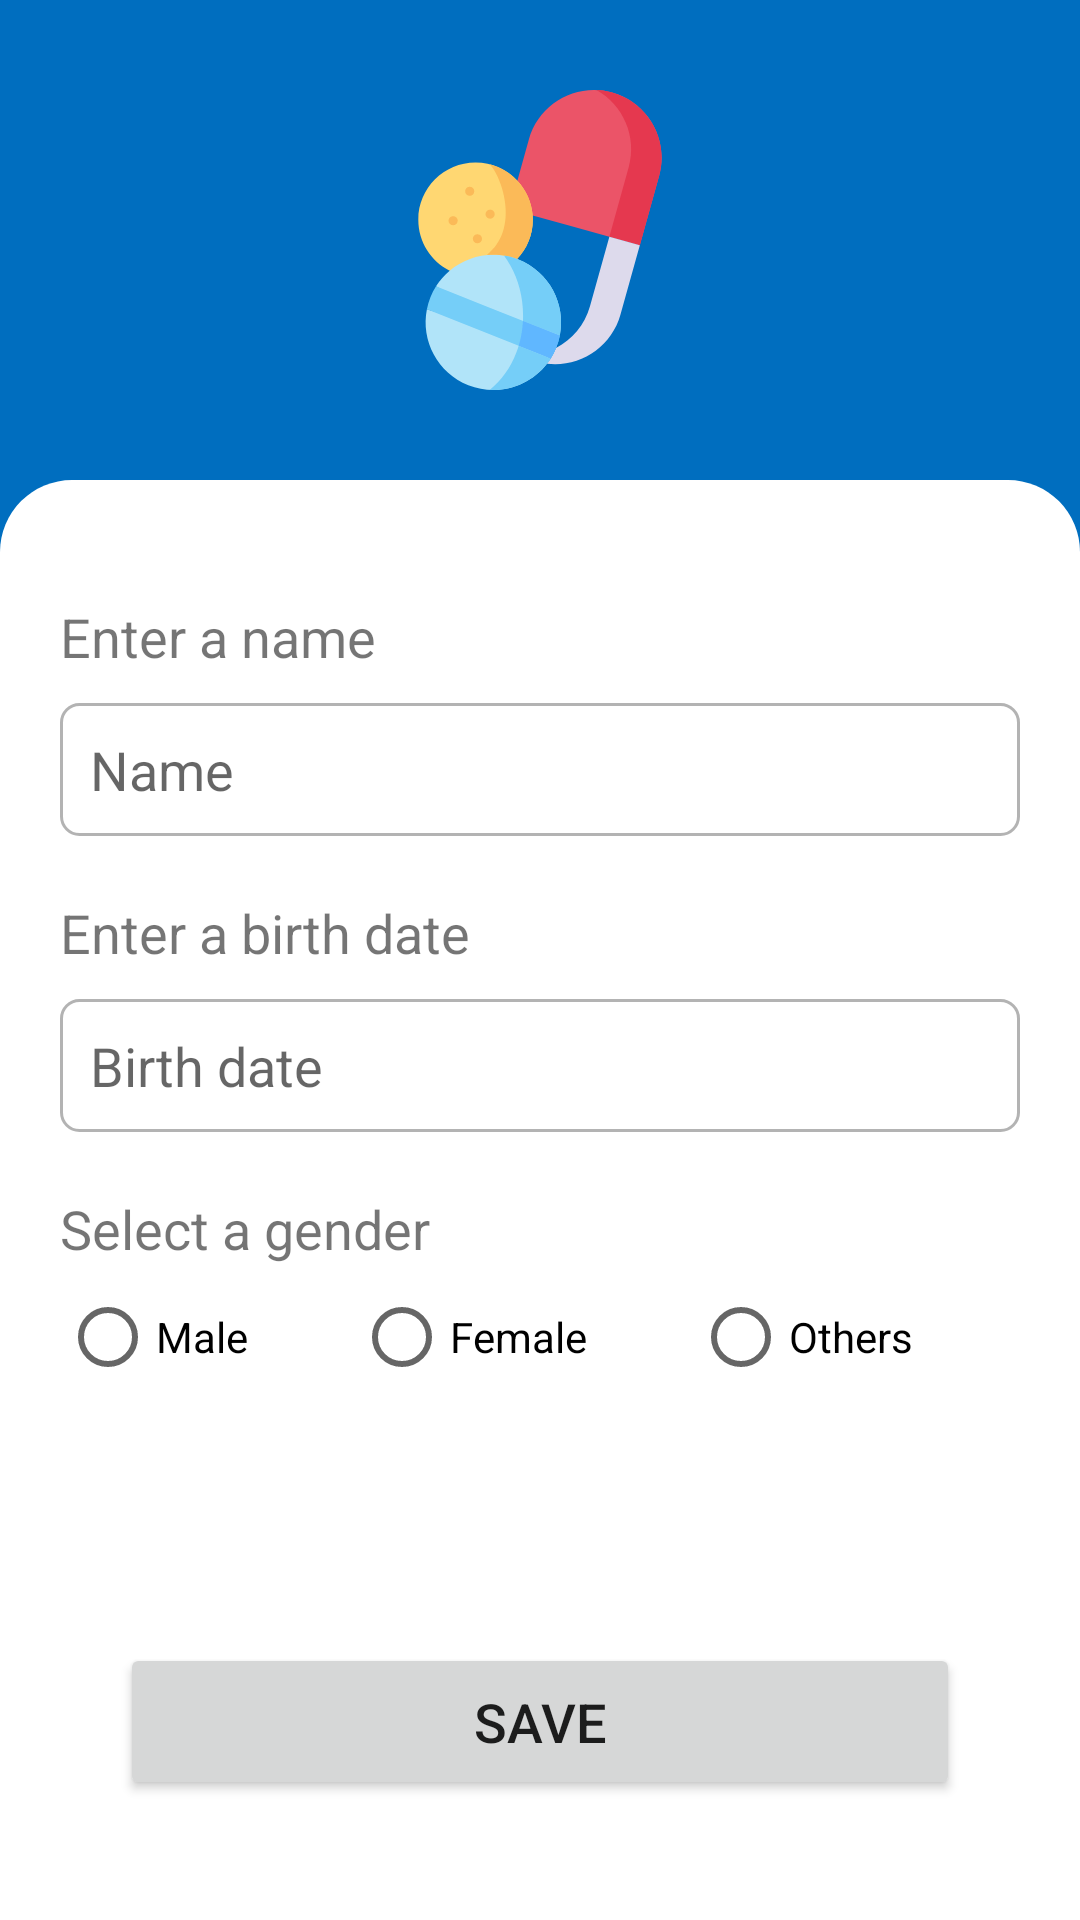

Where to tap for icons on this 1080w x 1920h app screen, as [x,y]:
drugs: [540,240]
